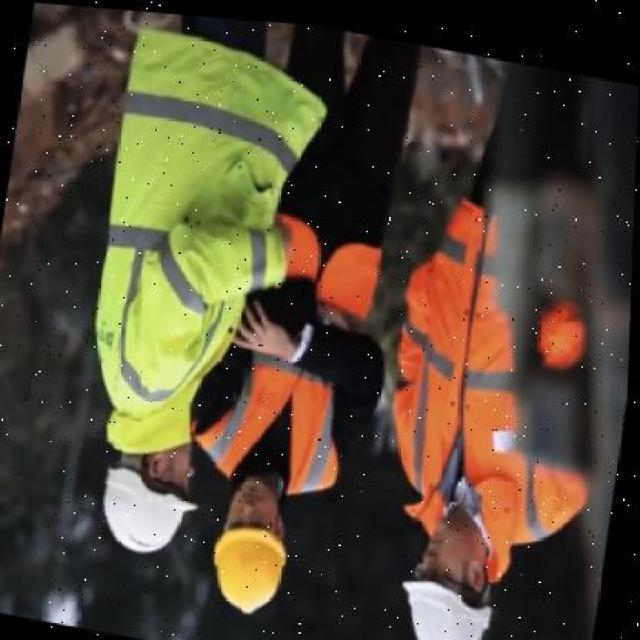helmet: (95, 457, 205, 559), (203, 508, 295, 618), (388, 559, 502, 639)
vest: (82, 21, 260, 423), (388, 165, 576, 545), (195, 197, 369, 493)
